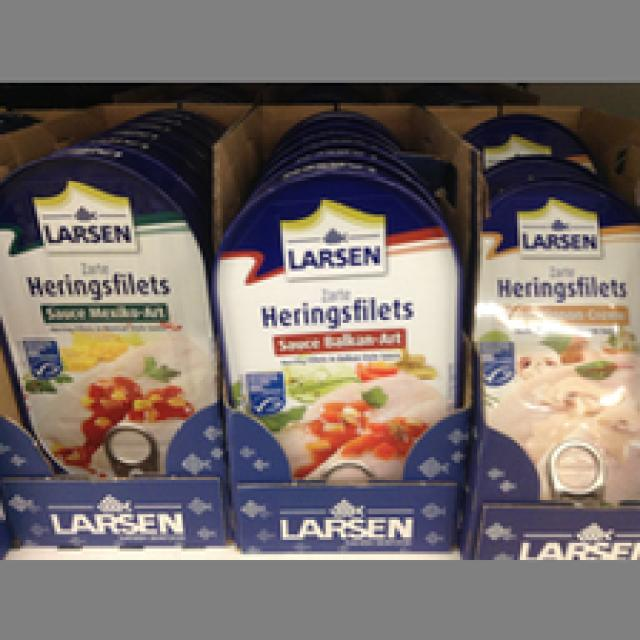groceries: (203, 166, 457, 483), (0, 145, 214, 474), (472, 177, 637, 503)
